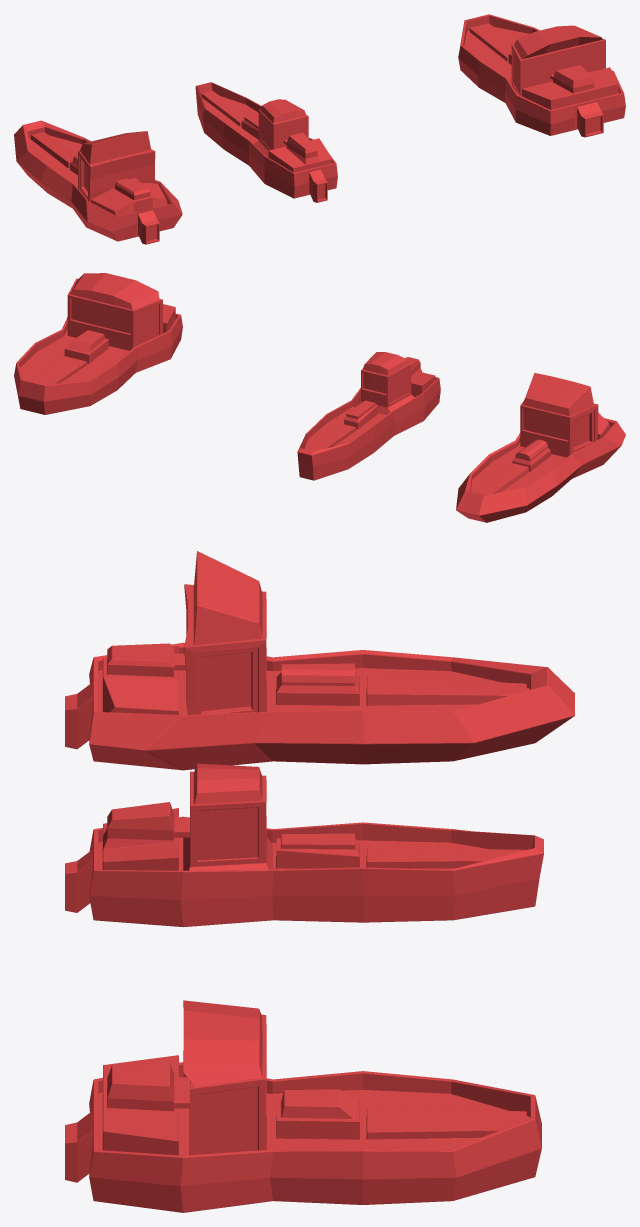
File: enemy_ships.fbx
The picture shows the model from 3 angles, top to bottom: view 1: azimuth 30°, elevation 25°; view 2: azimuth 150°, elevation 25°; view 3: azimuth 270°, elevation 25°; orthographic projection. The views are drawn at different scales.
Parts seen in each view (by area): view 1: Cube.005, Cube.007, Cube.006; view 2: Cube.005, Cube.007, Cube.006; view 3: Cube.005, Cube.007, Cube.006.
Boxes of the visible parts, x1,y1,x2,y2 form: Cube.005: (458, 14, 625, 137); Cube.007: (14, 120, 182, 244); Cube.006: (195, 82, 337, 202); Cube.005: (14, 273, 182, 414); Cube.007: (456, 373, 625, 522); Cube.006: (297, 352, 440, 480); Cube.005: (65, 1000, 541, 1212); Cube.007: (65, 551, 574, 770); Cube.006: (65, 763, 543, 927).
Bounding box in the file's own units: 4495 × 662 × 1850.
